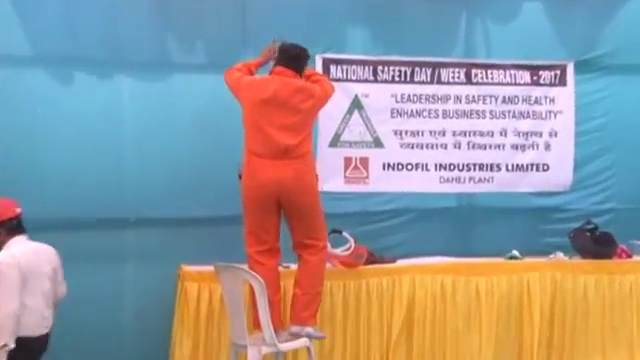helmet: (1, 195, 22, 223)
helmet_off: (270, 38, 310, 74)
helmet_on: (1, 194, 23, 253)
person: (227, 38, 334, 343), (1, 192, 66, 359)
